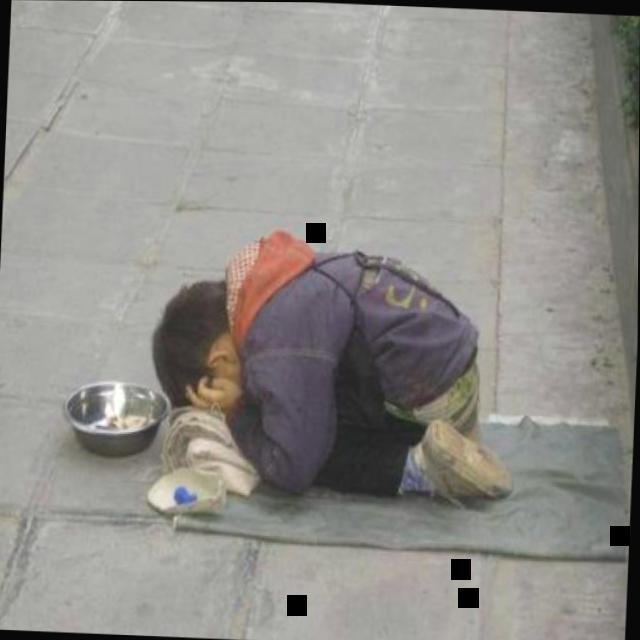Fall-Detected: (144, 196, 530, 524)
